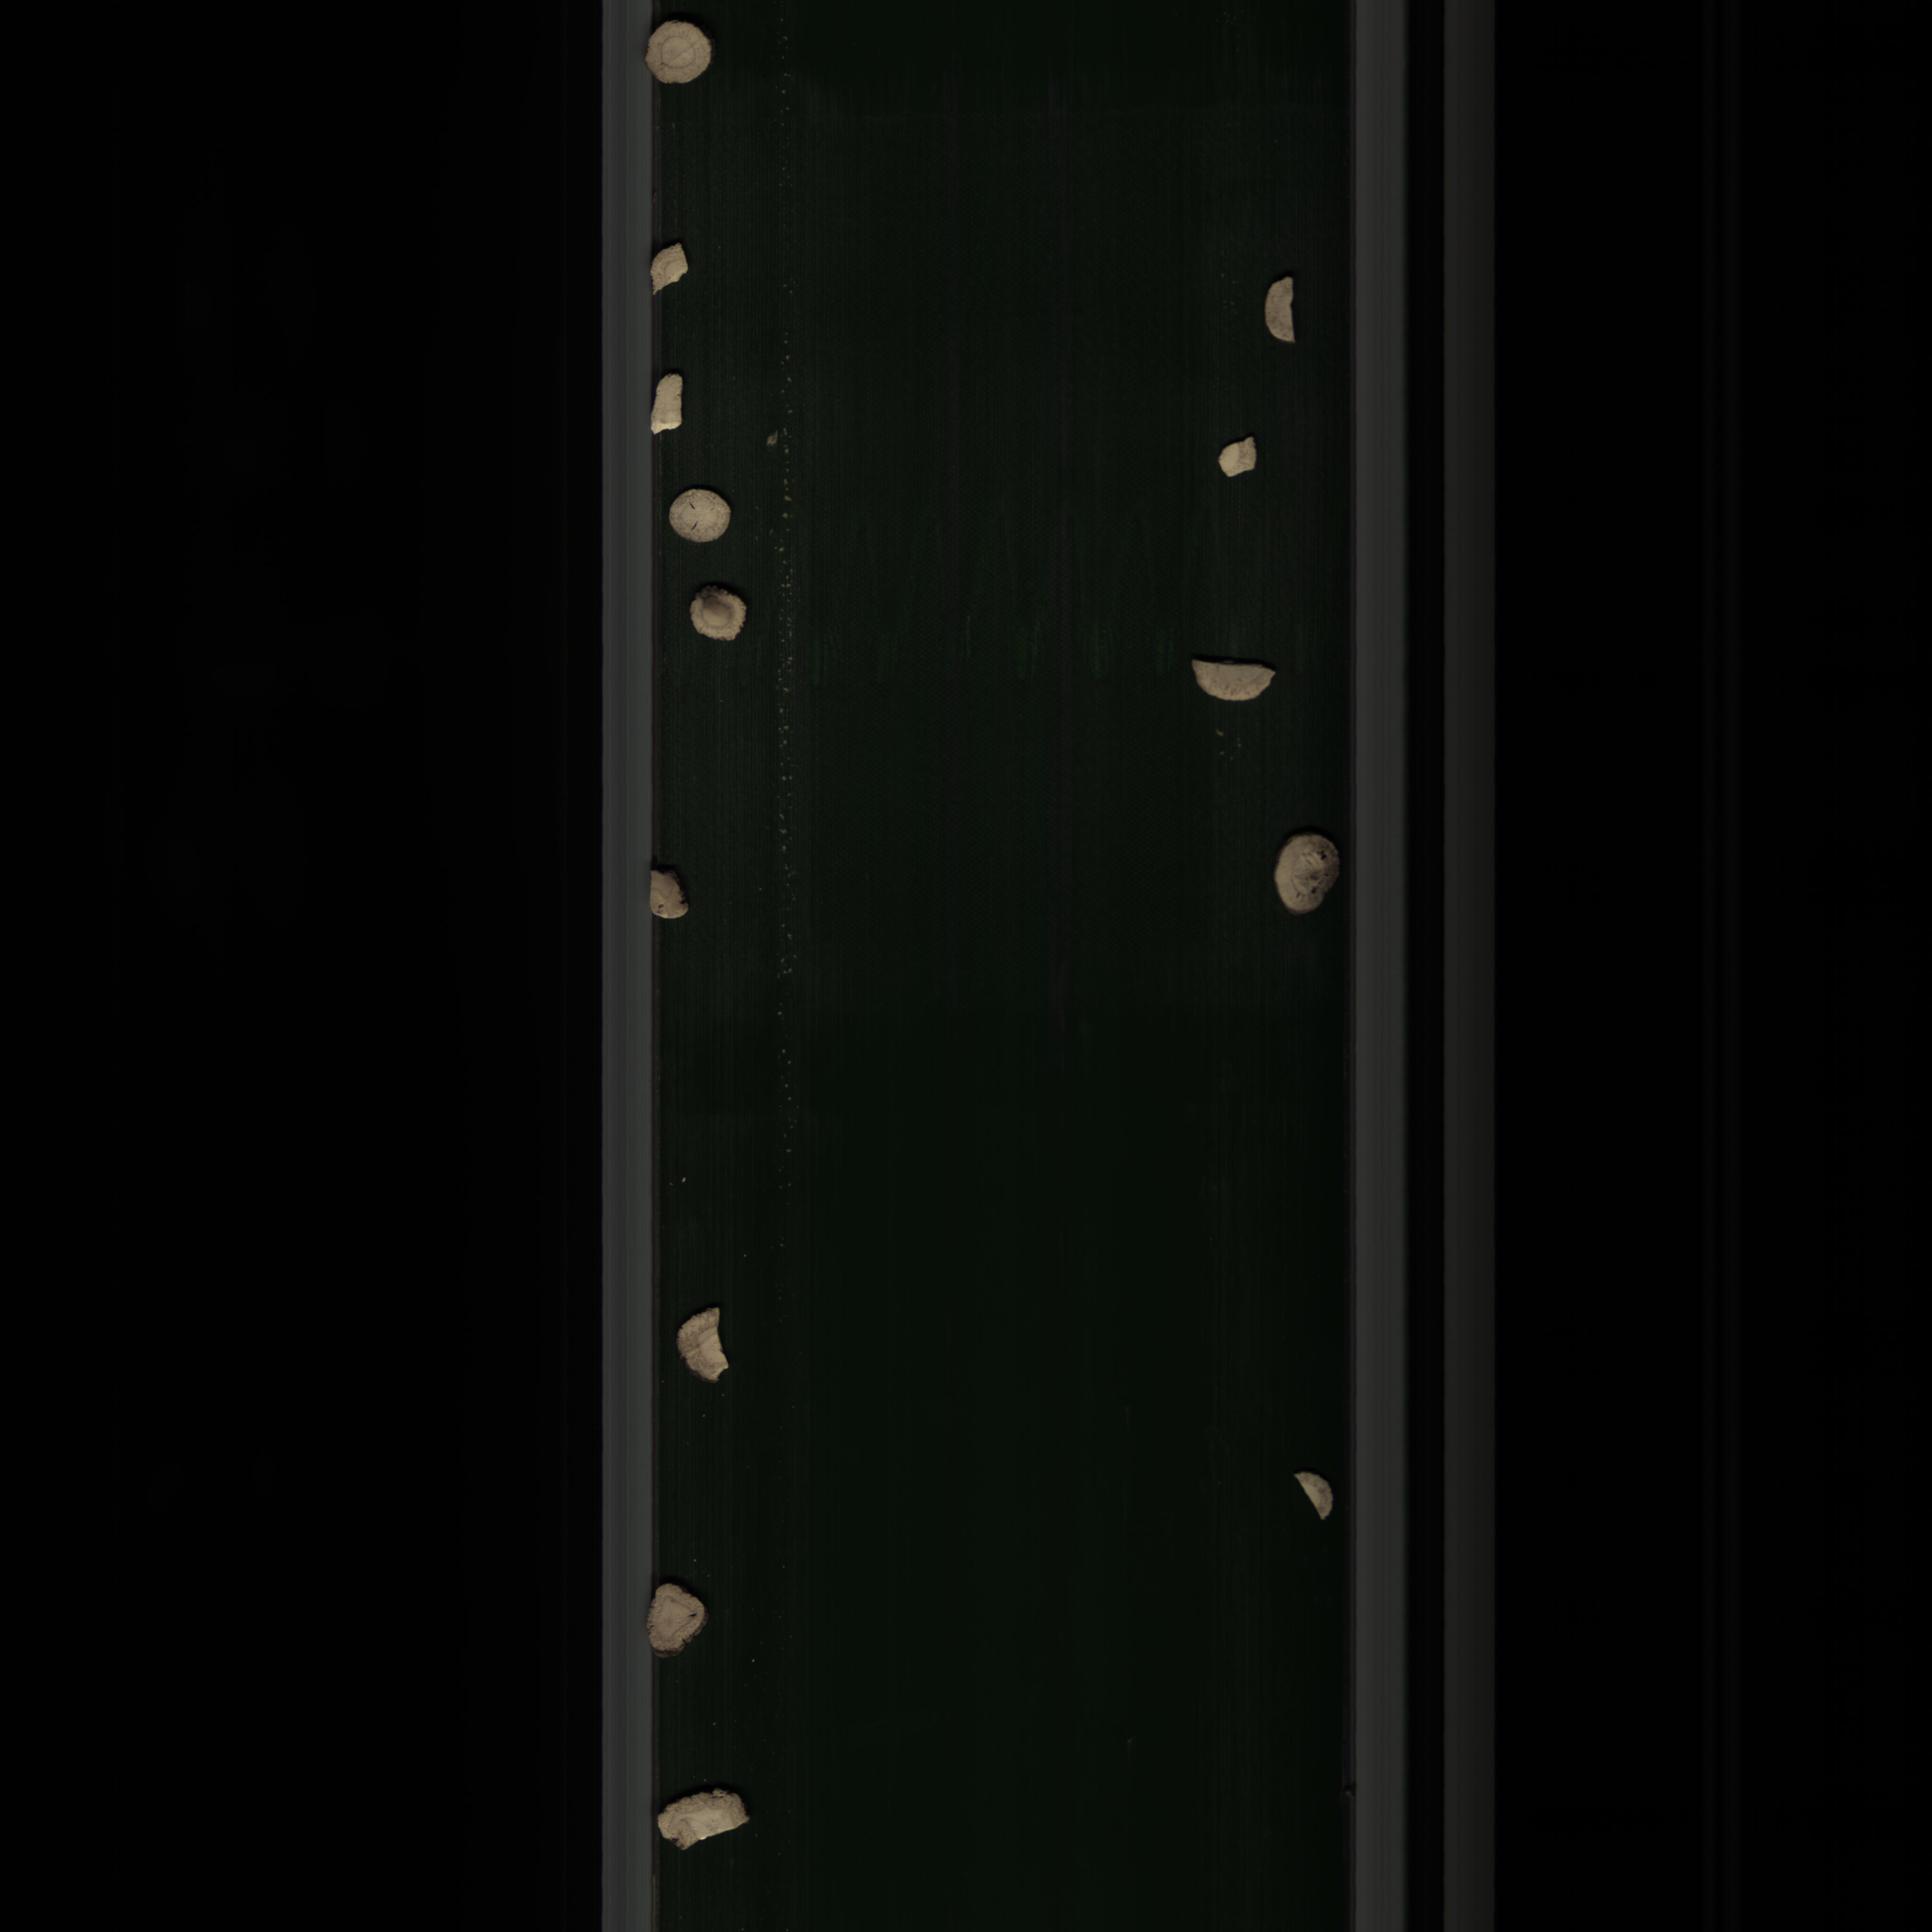debris: (671, 1299, 743, 1396), (651, 1785, 755, 1852), (1184, 648, 1284, 708), (1249, 272, 1306, 350), (642, 370, 697, 448), (635, 237, 706, 297), (1283, 1463, 1339, 1530), (642, 869, 692, 922), (1210, 433, 1256, 479)
moldy: (1261, 833, 1341, 918), (688, 584, 757, 646)
